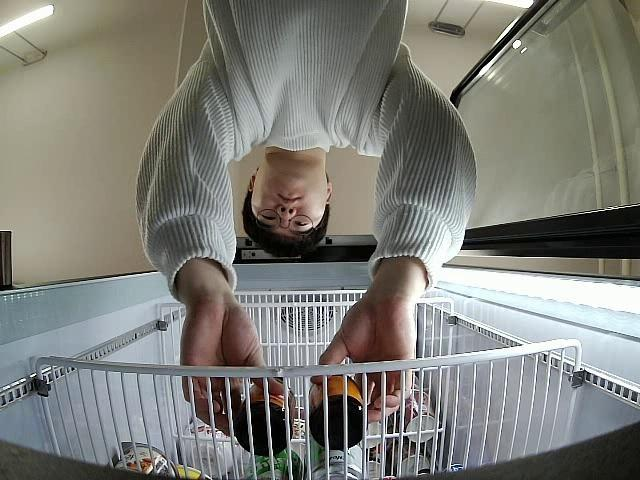17_vita500: (230, 375, 296, 454), (308, 375, 366, 448)
